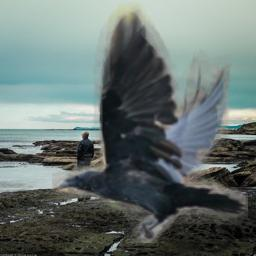Crow: (52, 2, 248, 243)
